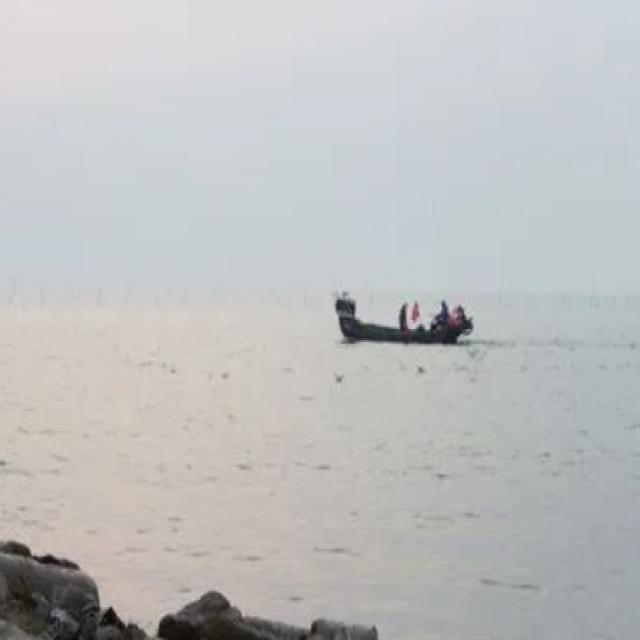fishing boat: (330, 285, 470, 350)
